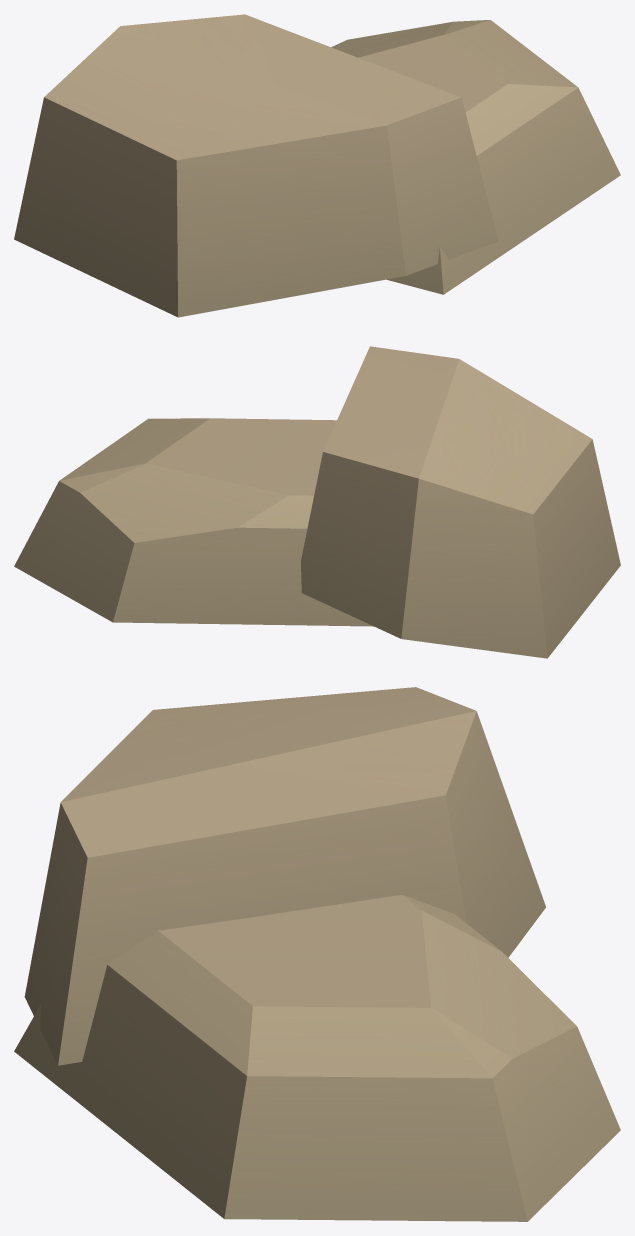
Rendered from Rock+5.fbx.
The picture shows the model from 3 angles, top to bottom: view 1: azimuth 30°, elevation 25°; view 2: azimuth 150°, elevation 25°; view 3: azimuth 270°, elevation 25°; orthographic projection. The views are drawn at different scales.
Parts seen in each view (by area): view 1: Rock 5; view 2: Rock 5; view 3: Rock 5.
Part boxes in pixels (x1,y1,x2,y2): Rock 5: (14, 14, 620, 317); Rock 5: (14, 346, 620, 658); Rock 5: (14, 687, 620, 1221).
Bounding box in the file's own units: 316 × 102 × 232.
